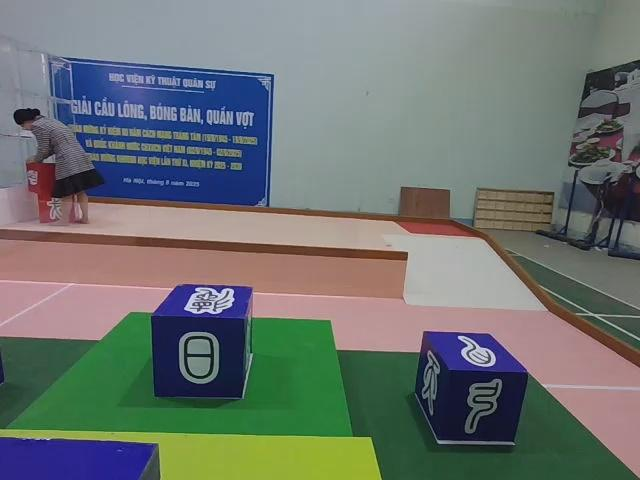R2 Fake Blue: (416, 332, 530, 447), (151, 283, 255, 400)
